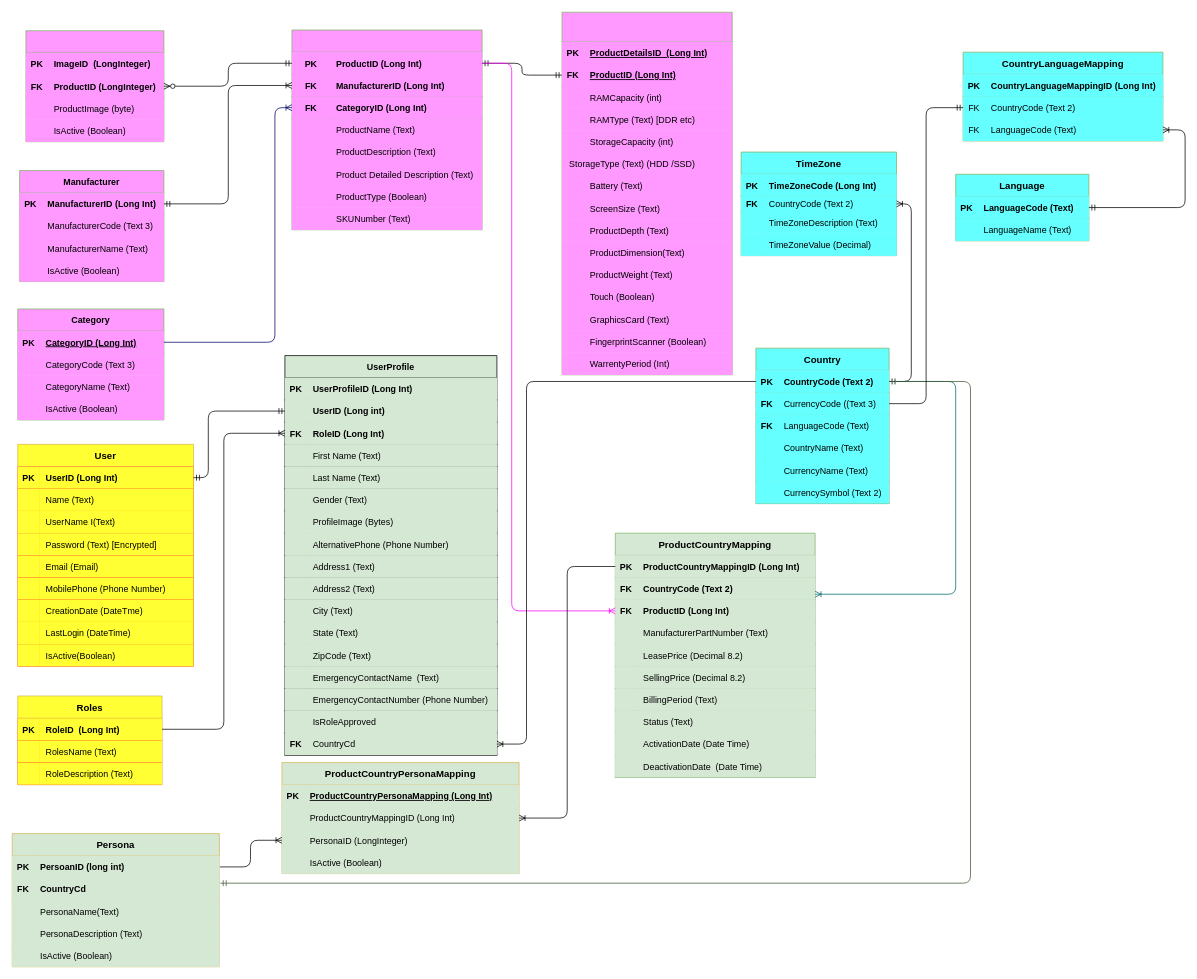
This 1197x979 diagram has some shape labels left out. Each missing label, with the box of its shape:
AdditionalProductDetails: (561, 11, 732, 375)
CatalogImages: (25, 30, 164, 142)
ProductsCatalog: (291, 29, 482, 230)
